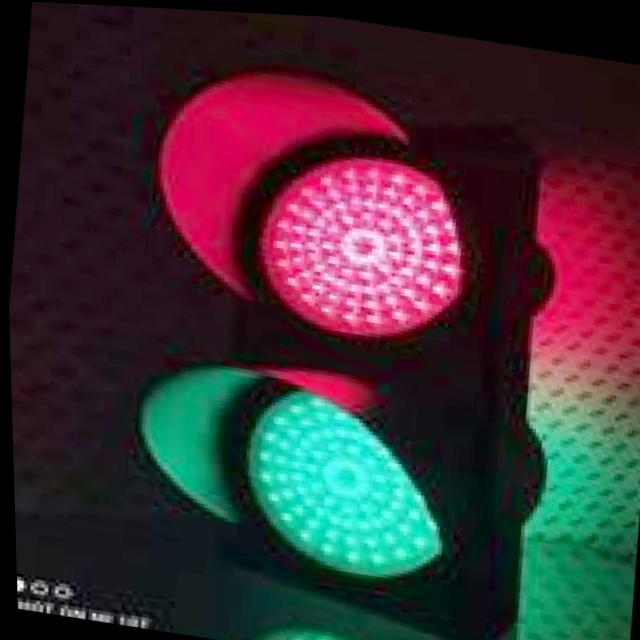green_light: (155, 318, 525, 580)
red_light: (144, 94, 540, 426)
